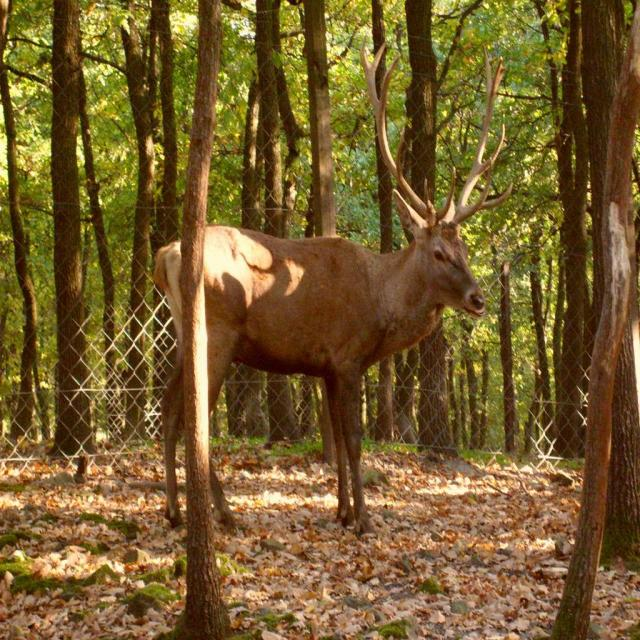Deer: (153, 37, 514, 530)
